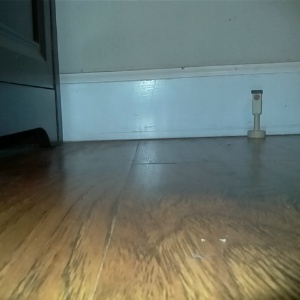traffic light red: (246, 87, 266, 139)
